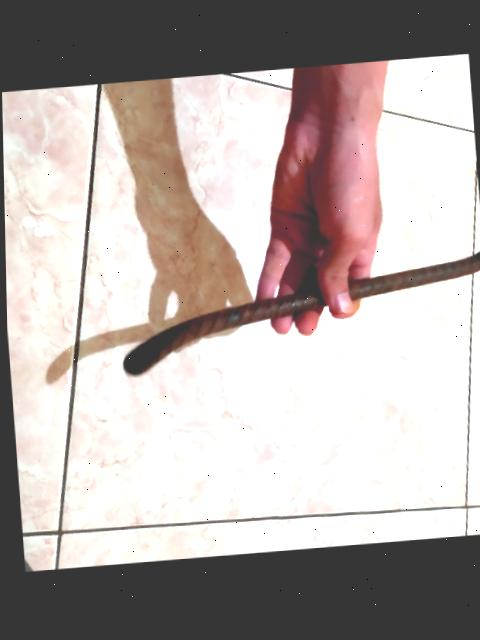crow bar: (104, 233, 480, 393)
